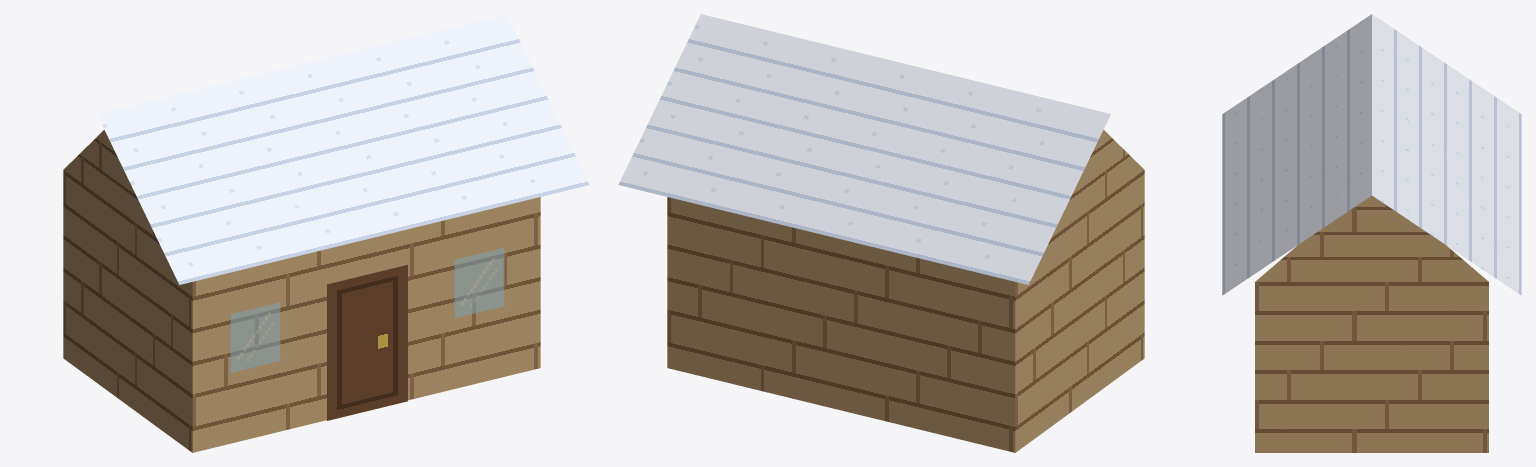
File: kiosk_winter.gltf
The picture shows the model from 3 angles, left to right: view 1: azimuth 30°, elevation 25°; view 2: azimuth 150°, elevation 25°; view 3: azimuth 270°, elevation 25°; orthographic projection. The views are drawn at different scales.
Parts seen in each view (by area): view 1: kiosk_winter; view 2: kiosk_winter; view 3: kiosk_winter.
Boxes of the visible parts, <box> form: kiosk_winter: <box>63,14,589,452</box>; kiosk_winter: <box>618,14,1144,452</box>; kiosk_winter: <box>1222,14,1521,452</box>.
Bounding box in the file's own units: 132 × 92 × 92.
4 materials, 4 textured.
